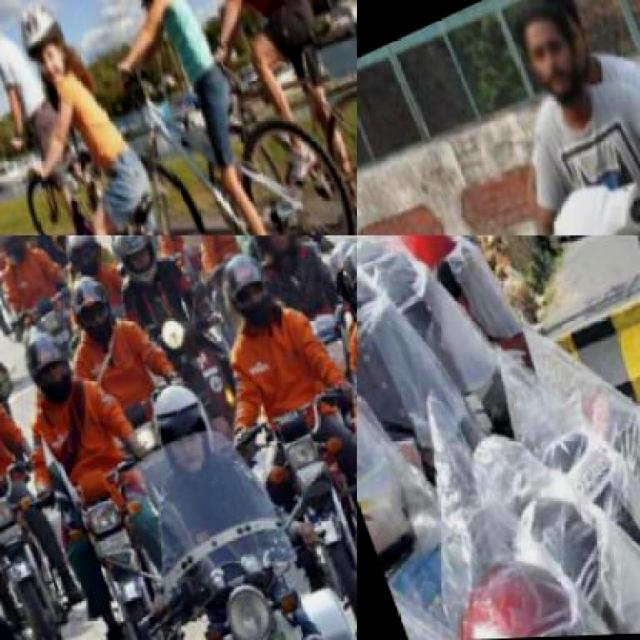With Helmet: (135, 370, 242, 495), (197, 235, 295, 348), (1, 0, 90, 102), (9, 318, 93, 414), (59, 264, 133, 354), (94, 235, 181, 303), (326, 235, 356, 338), (57, 236, 112, 284), (243, 235, 312, 271), (0, 235, 38, 266), (0, 0, 18, 63)
Without Helmet: (500, 0, 602, 111)
